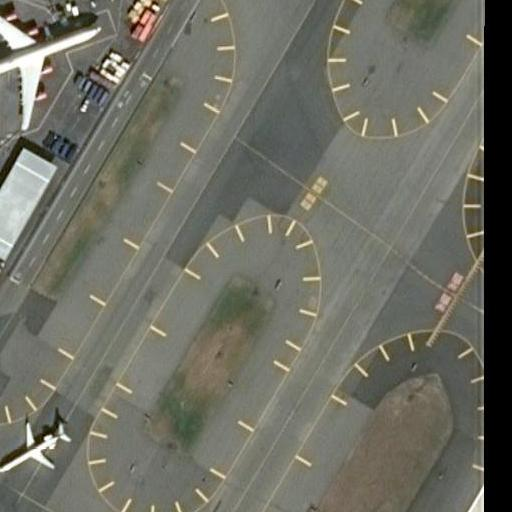Aircraft: (0, 0, 101, 132), (0, 411, 72, 482)
